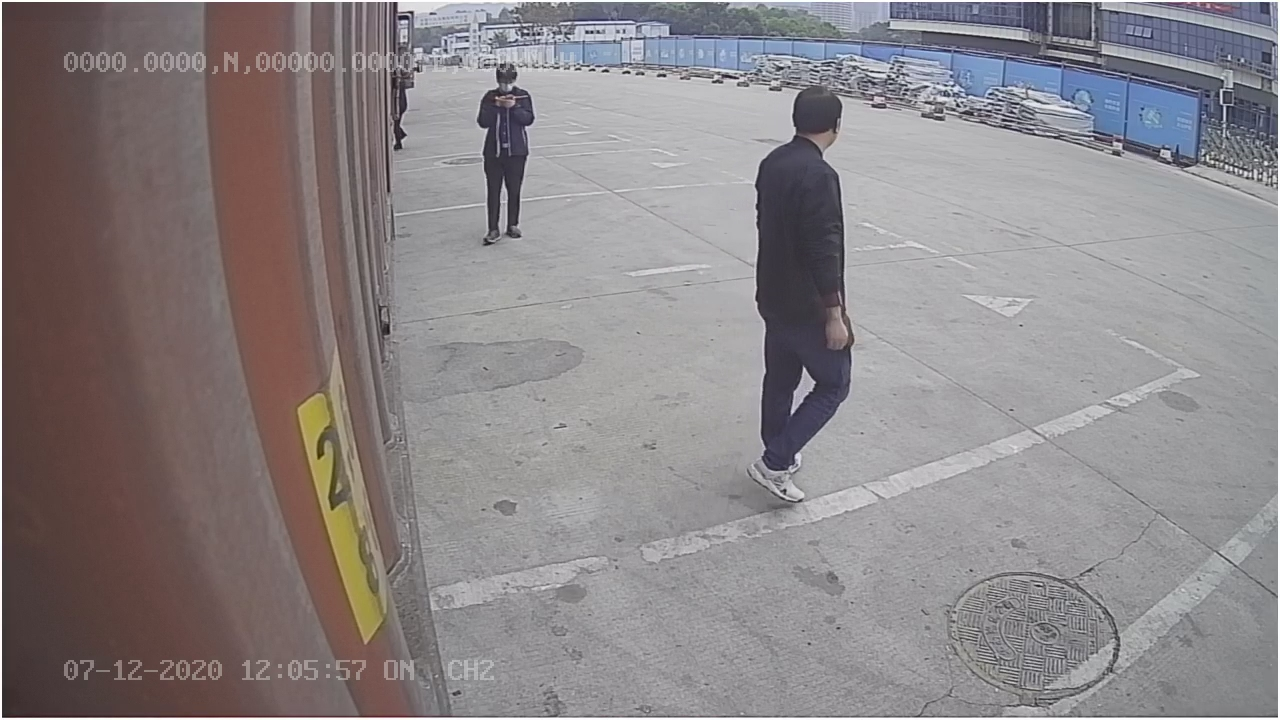person: (736, 80, 866, 506)
